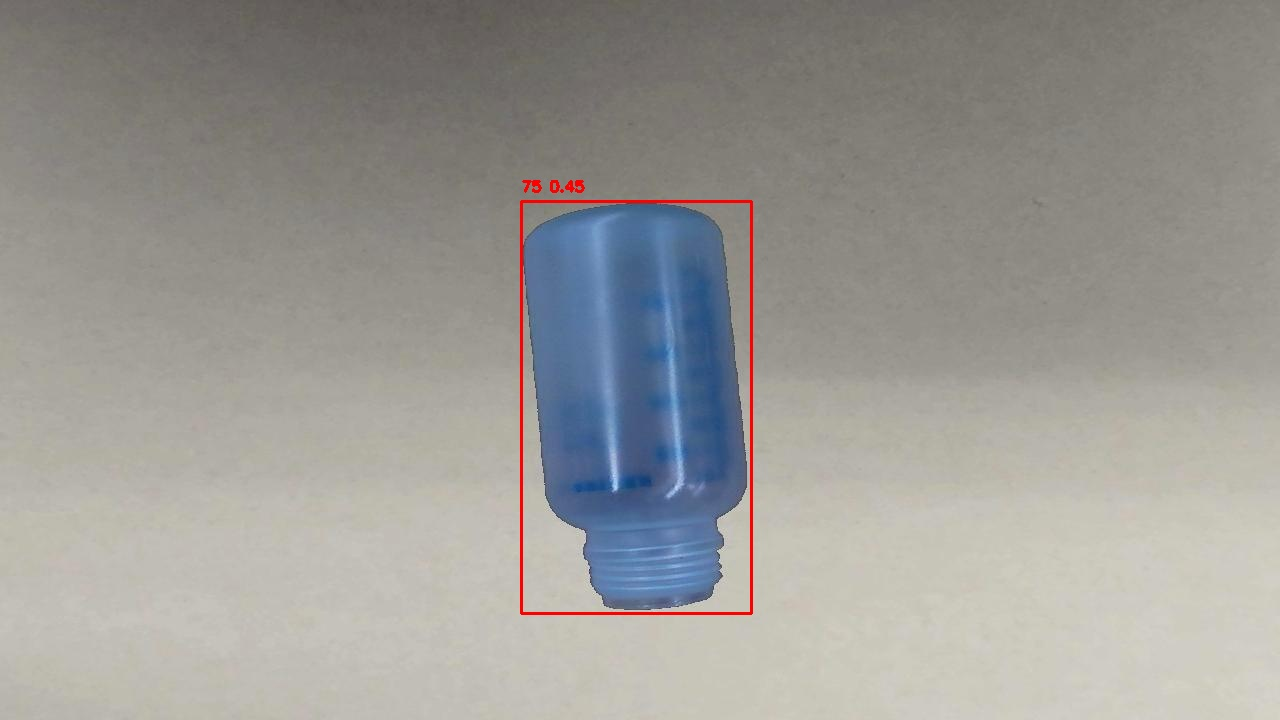cup: (521, 201, 751, 613)
